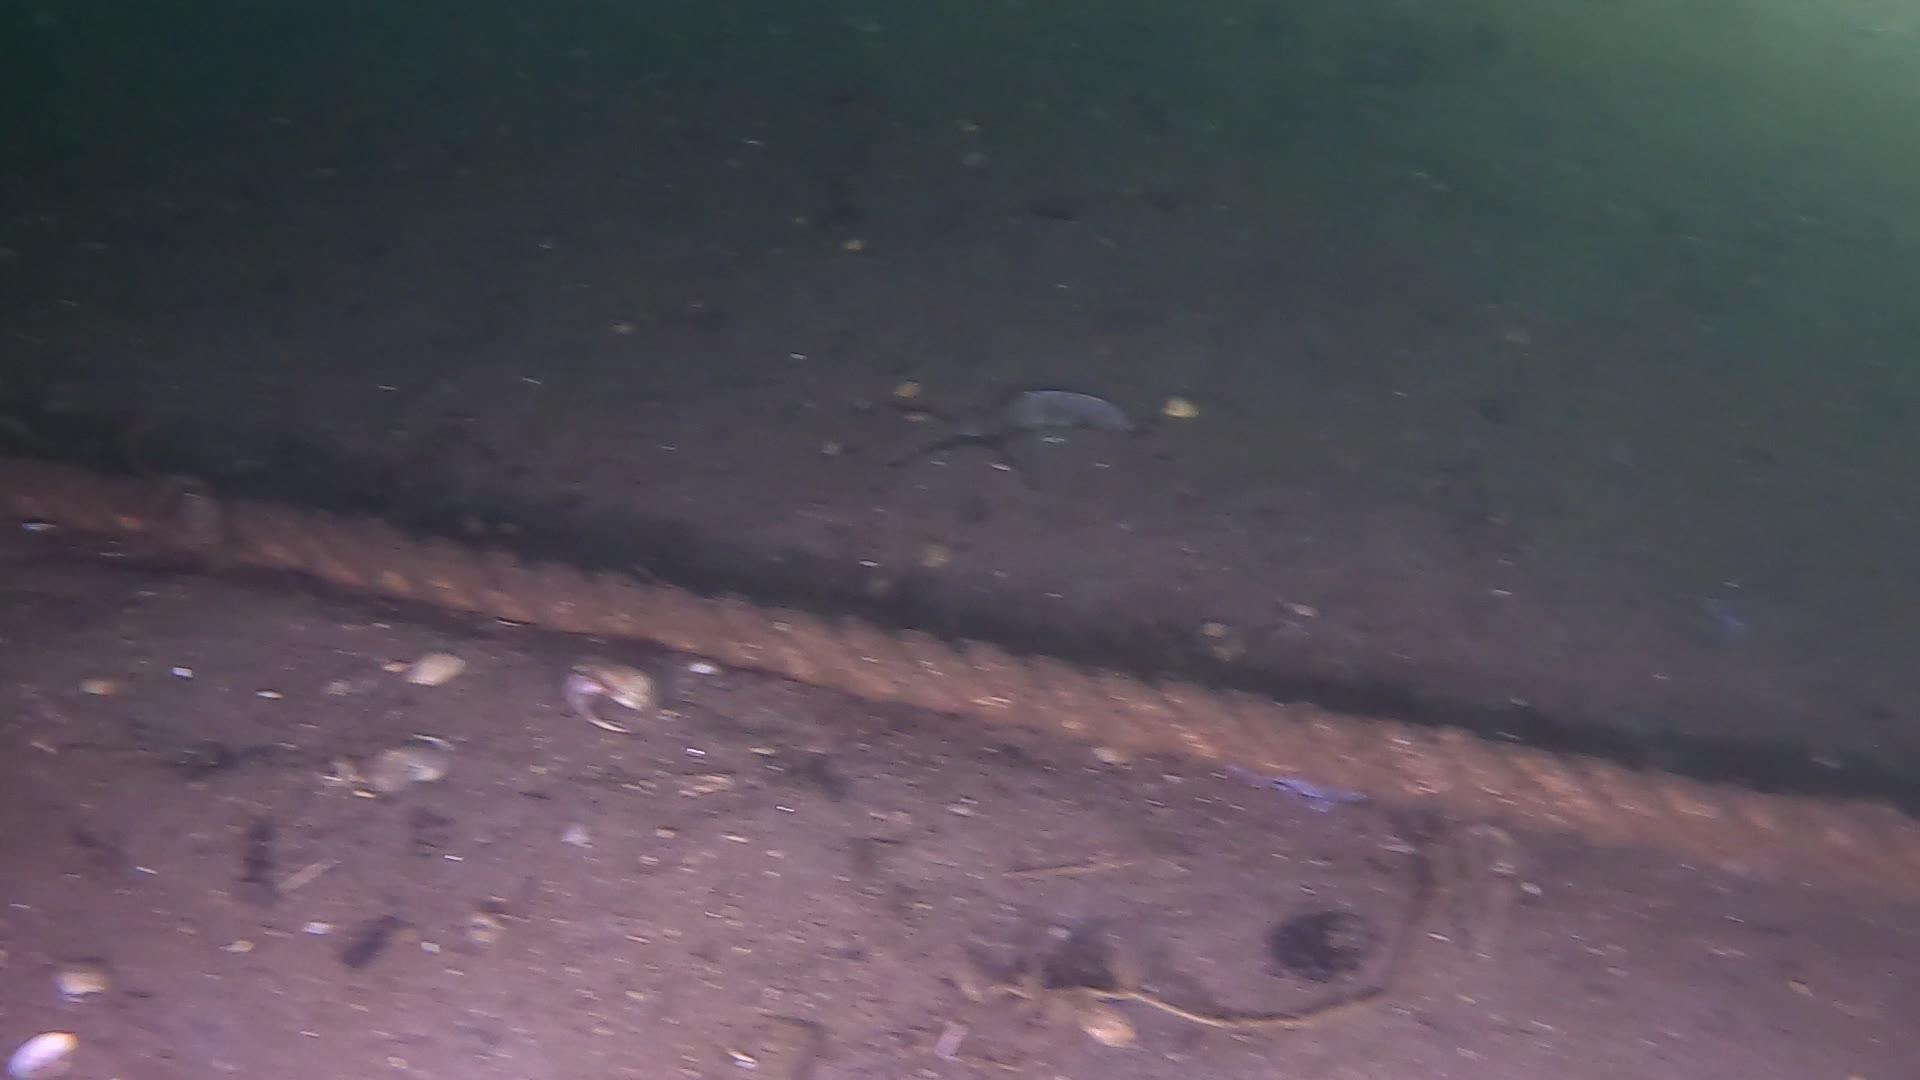rope: (0, 443, 1920, 916)
